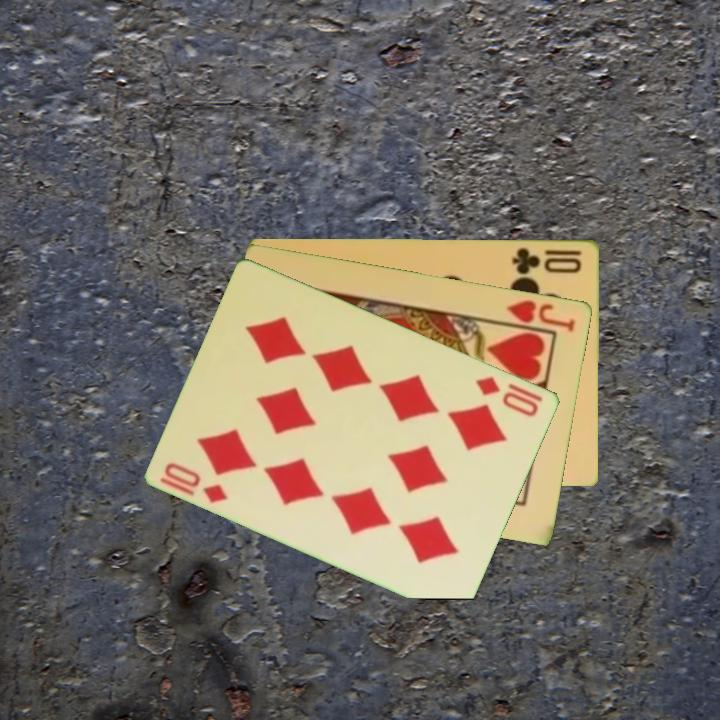10c: (509, 244, 584, 277)
10d: (161, 458, 232, 506), (472, 372, 542, 420)
Jh: (503, 296, 579, 334)
